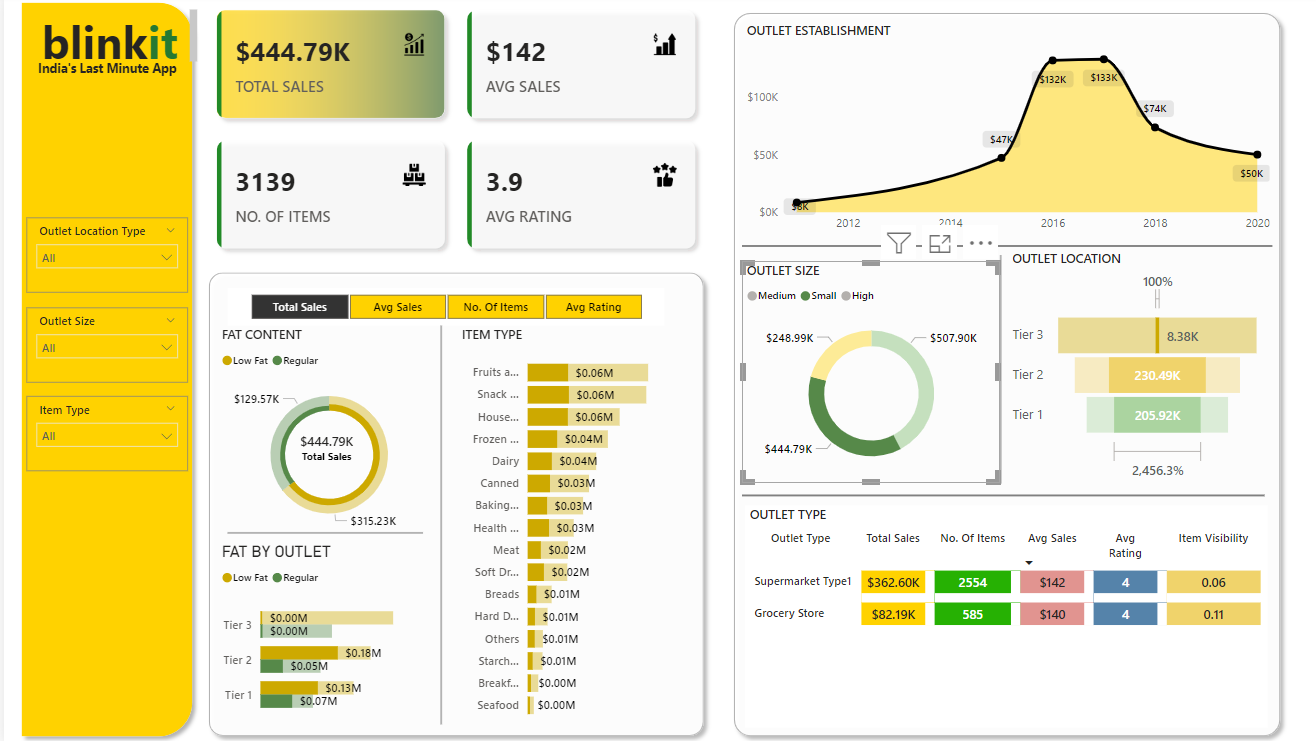

Layout of this report page (visuals, bound fields, positions):
{"tool":"powerbi","page":{"name":"Page 1","canvas":[1400,800],"ordinal":0},"visuals":[{"type":"shape","box":[10,0,200,800],"z":0},{"type":"textbox","box":[34.8,11.6,175.6,69.6],"z":1000},{"type":"textbox","box":[23.2,64.6,172.2,31.5],"z":2000},{"type":"cardVisual","fields":{"Data":["BlinkIT Grocery Data.Total Sales","BlinkIT Grocery Data.Avg Sales","BlinkIT Grocery Data.No. Of Items","BlinkIT Grocery Data.Avg Rating"]},"box":[210,0,545,288.3],"z":3000},{"type":"shape","box":[210,288.3,545,511.7],"z":4000},{"type":"donutChart","title":"FAT CONTENT","fields":{"Y":["BlinkIT Grocery Data.Total Sales"],"Category":["BlinkIT Grocery Data.Item Fat Content"]},"box":[226.7,353.3,238.3,230],"z":5000},{"type":"slicer","fields":{"Values":["Metrics.Metrics"]},"box":[238.5,313,465.4,39.7],"z":6000},{"type":"cardVisual","fields":{"Data":["BlinkIT Grocery Data.Total Sales"]},"box":[246.7,421.7,195,123.3],"z":7000},{"type":"clusteredBarChart","title":"FAT BY OUTLET","fields":{"Y":["BlinkIT Grocery Data.Total Sales"],"Category":["BlinkIT Grocery Data.Outlet Location Type"],"Series":["BlinkIT Grocery Data.Item Fat Content"]},"box":[226.7,583.3,238.3,198.3],"z":8000},{"type":"shape","box":[238.3,563.3,208.3,20],"z":9000},{"type":"shape","box":[446.7,353.3,36.7,425],"z":10000},{"type":"barChart","title":"ITEM TYPE","fields":{"Y":["BlinkIT Grocery Data.Total Sales"],"Category":["BlinkIT Grocery Data.Item Type"]},"box":[483.3,353.3,248.3,428.3],"z":11000},{"type":"shape","box":[768.3,11.7,600,788.3],"z":12000},{"type":"lineChart","title":"OUTLET ESTABLISHMENT","fields":{"Category":["BlinkIT Grocery Data.Outlet Establishment Year"],"Y":["BlinkIT Grocery Data.Total Sales"]},"box":[786.7,28.3,566.7,233.3],"z":13000},{"type":"shape","box":[786.7,250,565,38.3],"z":14000},{"type":"donutChart","title":"OUTLET SIZE","fields":{"Category":["BlinkIT Grocery Data.Outlet Size"],"Y":["BlinkIT Grocery Data.Total Sales"]},"box":[786.7,285,275,236.7],"z":15000},{"type":"shape","box":[1043.3,278.3,36.7,243.3],"z":16000},{"type":"funnel","title":"OUTLET LOCATION","fields":{"Y":["Sum(BlinkIT Grocery Data.Sales)"],"Category":["BlinkIT Grocery Data.Outlet Location Type"]},"box":[1068.3,271.7,275,250],"z":17000},{"type":"shape","box":[786.7,503.3,556.7,61.7],"z":18000},{"type":"pivotTable","title":"OUTLET TYPE","fields":{"Rows":["BlinkIT Grocery Data.Outlet Type"],"Values":["BlinkIT Grocery Data.Total Sales","BlinkIT Grocery Data.No. Of Items","BlinkIT Grocery Data.Avg Sales","BlinkIT Grocery Data.Avg Rating","Avg(BlinkIT Grocery Data.Item Visibility)"]},"box":[790,545,556.7,236.7],"z":19000},{"type":"slicer","fields":{"Values":["BlinkIT Grocery Data.Outlet Location Type"]},"box":[23.3,238.3,171.7,80],"z":19001},{"type":"slicer","fields":{"Values":["BlinkIT Grocery Data.Outlet Size"]},"box":[23.3,333.3,171.7,80],"z":19002},{"type":"slicer","fields":{"Values":["BlinkIT Grocery Data.Item Type"]},"box":[23.3,428.3,171.7,80],"z":19003}]}

Visuals, with their boxes in screenshot pixels (x1, y1, x2, y2), scaled from the page's 1400x800 canvas onto the 1316x741 screenshot:
shape: 9, 0, 197, 740
textbox: 33, 11, 198, 75
textbox: 22, 60, 184, 89
cardVisual - BlinkIT Grocery Data.Total Sales x BlinkIT Grocery Data.Avg Sales: 197, 0, 710, 267
shape: 197, 267, 710, 740
"FAT CONTENT" donutChart: 213, 327, 437, 540
slicer - Metrics.Metrics: 224, 290, 662, 327
cardVisual - BlinkIT Grocery Data.Total Sales: 232, 391, 415, 505
"FAT BY OUTLET" clusteredBarChart: 213, 540, 437, 724
shape: 224, 522, 420, 540
shape: 420, 327, 454, 721
"ITEM TYPE" barChart: 454, 327, 688, 724
shape: 722, 11, 1286, 740
"OUTLET ESTABLISHMENT" lineChart: 739, 26, 1272, 242
shape: 739, 232, 1271, 267
"OUTLET SIZE" donutChart: 739, 264, 998, 483
shape: 981, 258, 1015, 483
"OUTLET LOCATION" funnel: 1004, 252, 1263, 483
shape: 739, 466, 1263, 523
"OUTLET TYPE" pivotTable: 743, 505, 1266, 724
slicer - BlinkIT Grocery Data.Outlet Location Type: 22, 221, 183, 295
slicer - BlinkIT Grocery Data.Outlet Size: 22, 309, 183, 383
slicer - BlinkIT Grocery Data.Item Type: 22, 397, 183, 471
